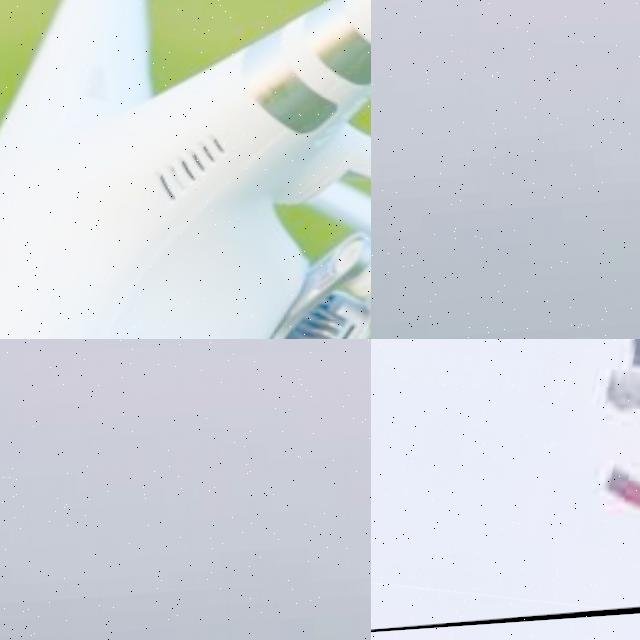0: (371, 339, 640, 640)
drone: (0, 0, 371, 339)
